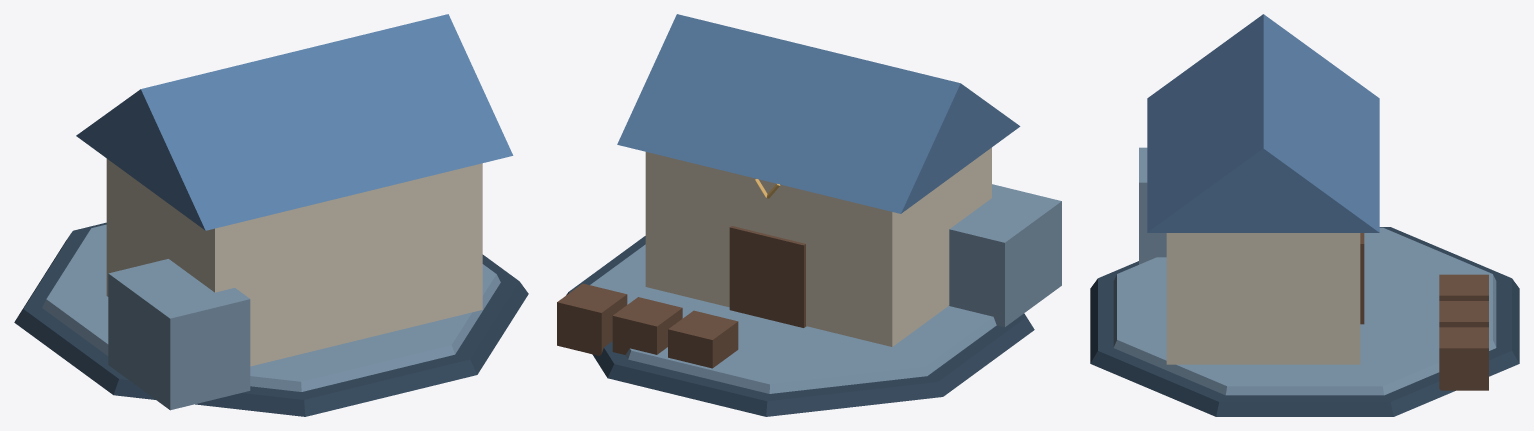
The model's file is Warehouse_2.fbx.
3 views of the same model, side by side, from view 1: azimuth 30°, elevation 25°; view 2: azimuth 150°, elevation 25°; view 3: azimuth 270°, elevation 25° (orthographic). The views are drawn at different scales.
Parts seen in each view (by area): view 1: Warehouse_2; view 2: Warehouse_2; view 3: Warehouse_2.
Part boxes in pixels (x1=…): Warehouse_2: x1=14, y1=14, x2=528, y2=416; Warehouse_2: x1=557, y1=14, x2=1061, y2=416; Warehouse_2: x1=1090, y1=14, x2=1519, y2=416.
Bounding box in the file's own units: 2.7 × 1.7 × 2.7.
